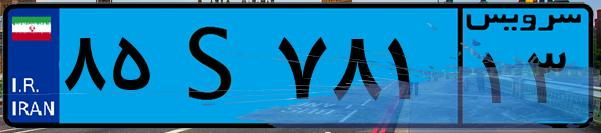1: (385, 28, 445, 110), (475, 38, 525, 113)
3: (525, 38, 570, 115)
5: (110, 28, 158, 98)
7: (270, 28, 330, 110)
8: (330, 28, 385, 110), (57, 26, 110, 100)
S: (158, 12, 270, 120)
